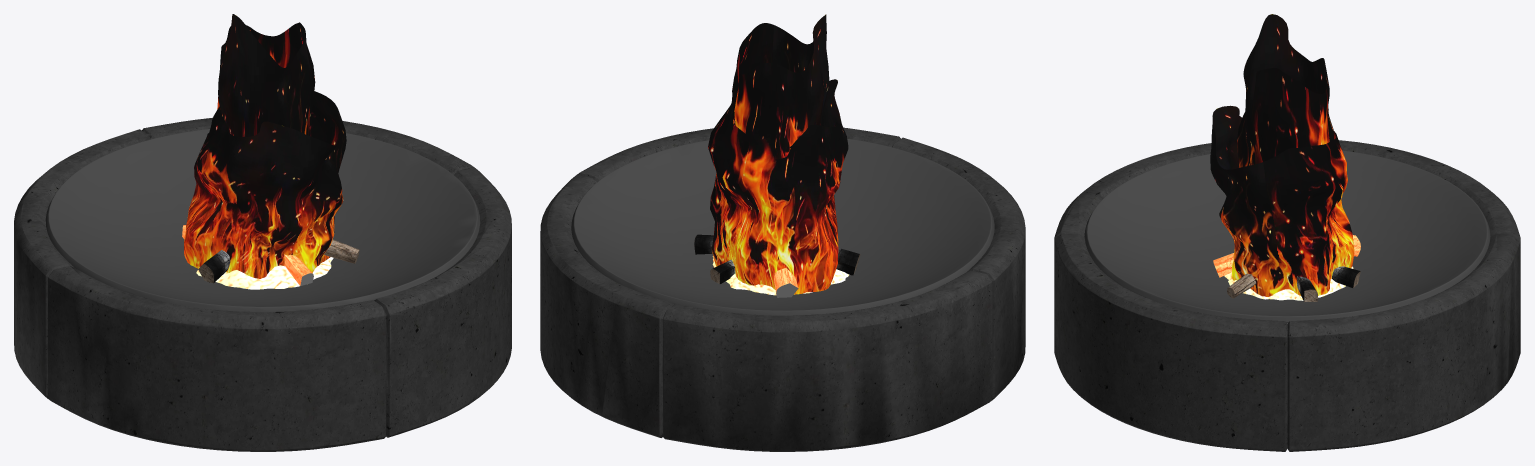
The model's file is bonfire.glb.
The picture shows the model from 3 angles, left to right: view 1: azimuth 30°, elevation 25°; view 2: azimuth 150°, elevation 25°; view 3: azimuth 270°, elevation 25°; orthographic projection. The views are drawn at different scales.
Visible parts, largest first — view 1: Object_13, Object_14, Object_11, Object_9, Object_6, Object_7; view 2: Object_13, Object_14, Object_11, Object_6, Object_9; view 3: Object_13, Object_14, Object_11, Object_6, Object_9, Object_7.
Part boxes in pixels (x1=…): Object_13: x1=14, y1=117, x2=511, y2=451; Object_14: x1=45, y1=129, x2=480, y2=311; Object_11: x1=184, y1=14, x2=346, y2=278; Object_9: x1=196, y1=257, x2=333, y2=289; Object_6: x1=204, y1=239, x2=359, y2=282; Object_7: x1=182, y1=225, x2=312, y2=285; Object_13: x1=540, y1=127, x2=1025, y2=451; Object_14: x1=571, y1=138, x2=994, y2=315; Object_11: x1=708, y1=14, x2=848, y2=294; Object_6: x1=694, y1=234, x2=859, y2=283; Object_9: x1=712, y1=256, x2=849, y2=295; Object_13: x1=1054, y1=140, x2=1520, y2=451; Object_14: x1=1084, y1=150, x2=1490, y2=323; Object_11: x1=1210, y1=14, x2=1354, y2=296; Object_6: x1=1228, y1=266, x2=1360, y2=301; Object_9: x1=1224, y1=266, x2=1353, y2=300; Object_7: x1=1213, y1=235, x2=1360, y2=277.
Bounding box in the file's own units: 1.38 × 1.06 × 1.38.
8 materials, 6 textured.
